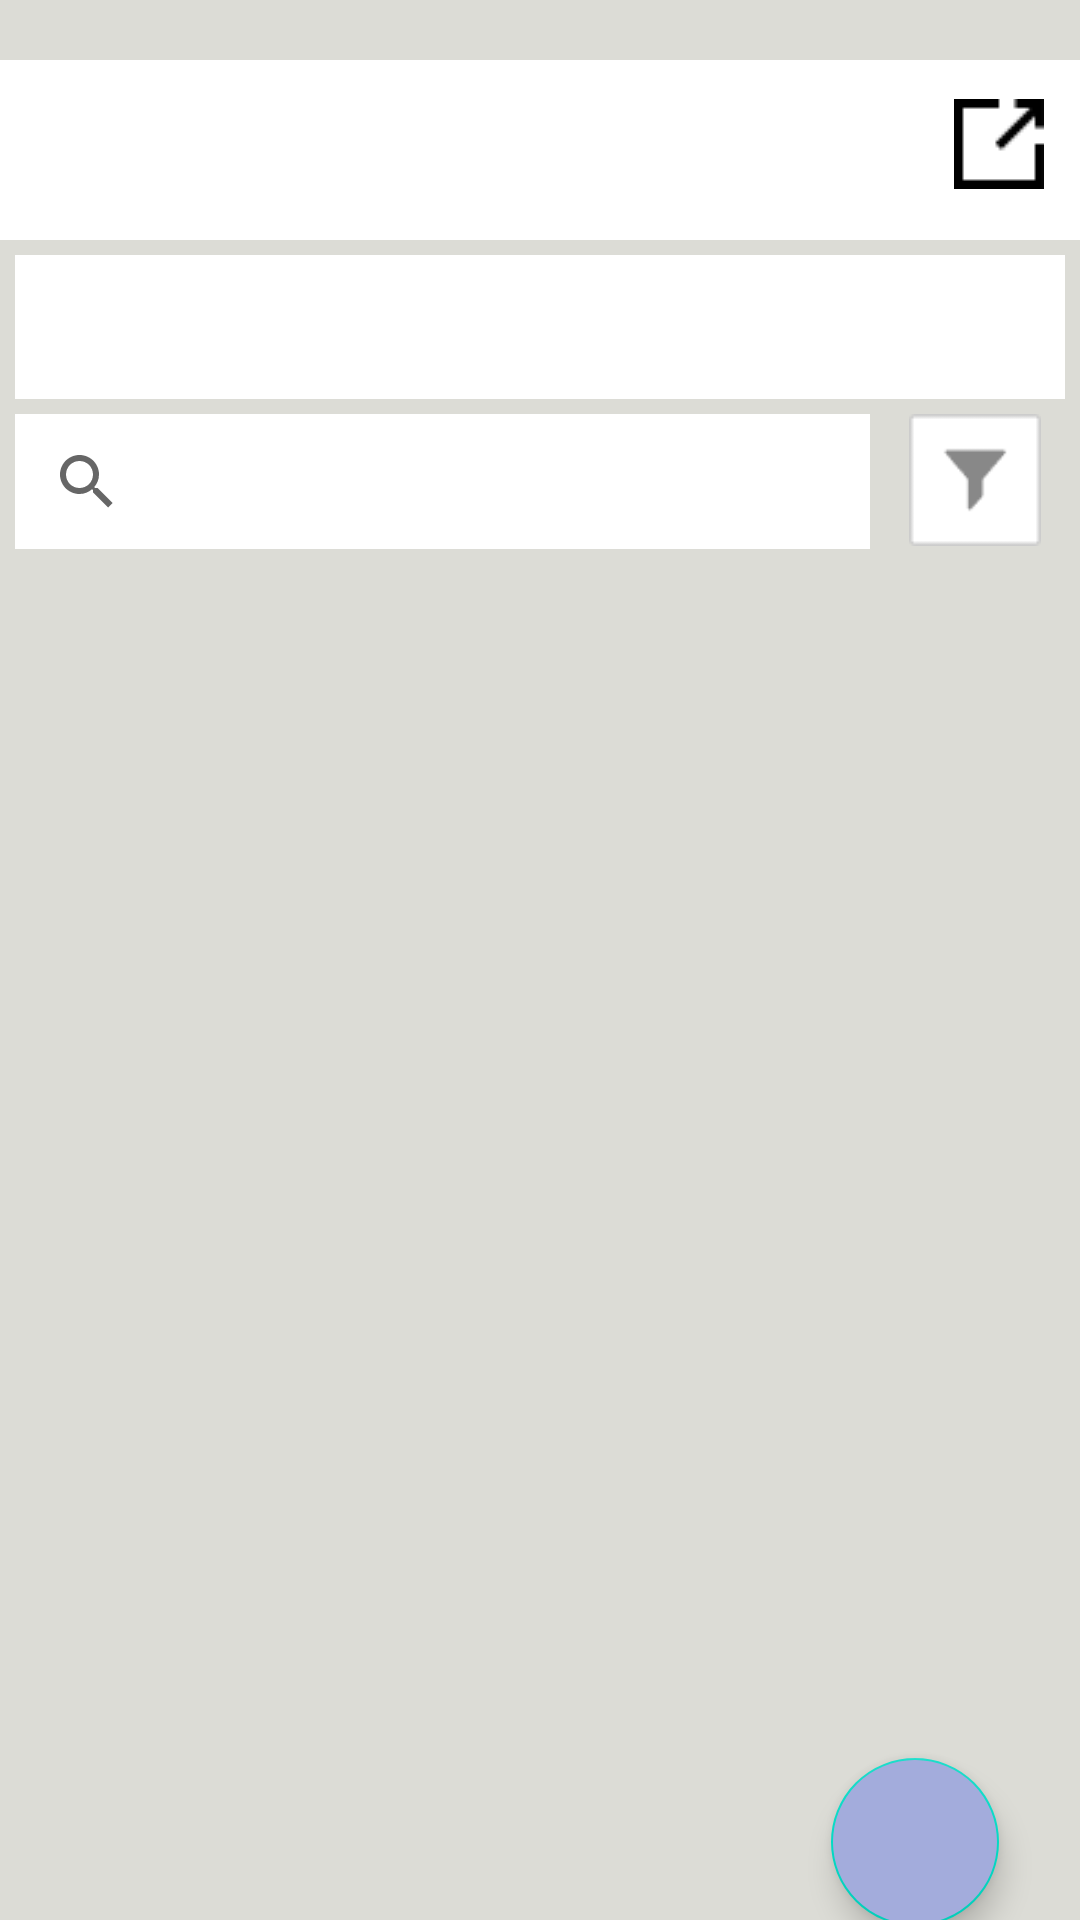

Locate icon controls on the screen. Image size 1080px x 1920px, boxes as (x1, y1, x2, y2).
filter: (913, 418, 1037, 542)
